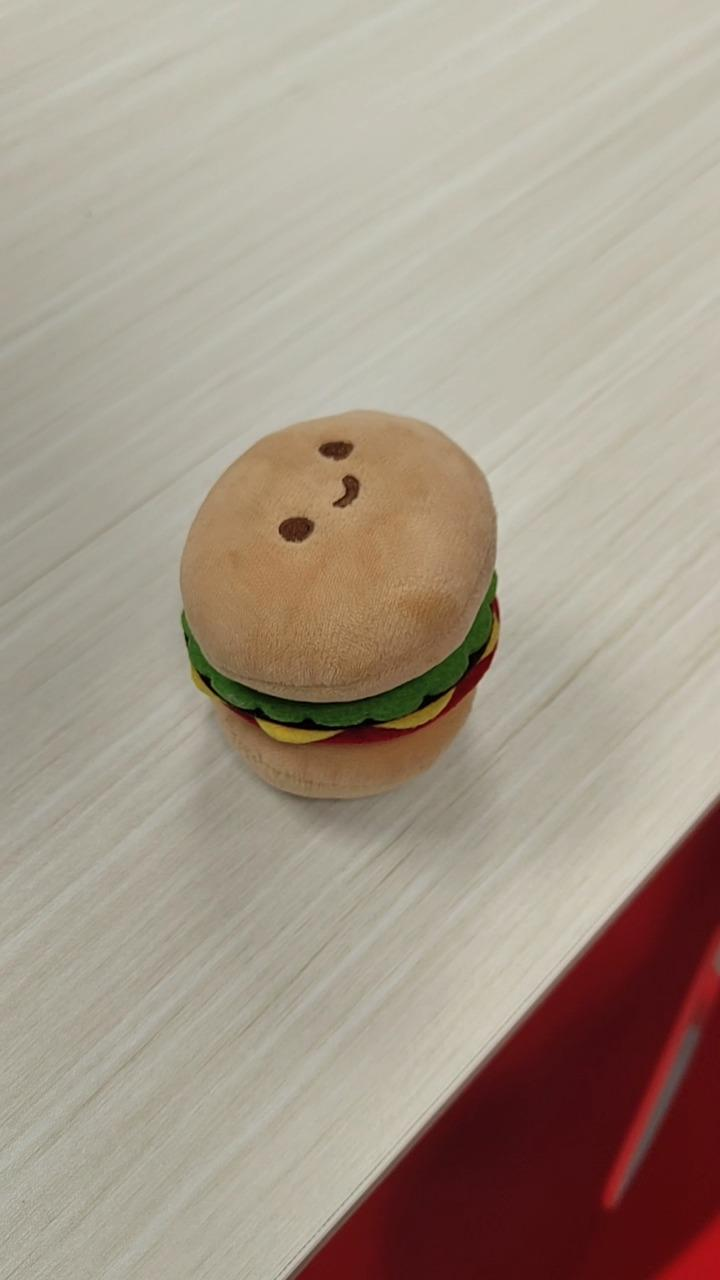hamburger: (178, 407, 501, 801)
